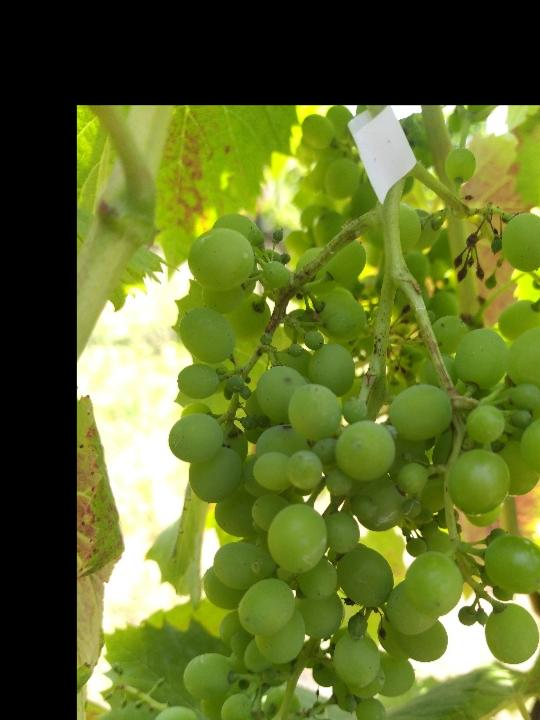grape: (146, 142, 540, 720)
